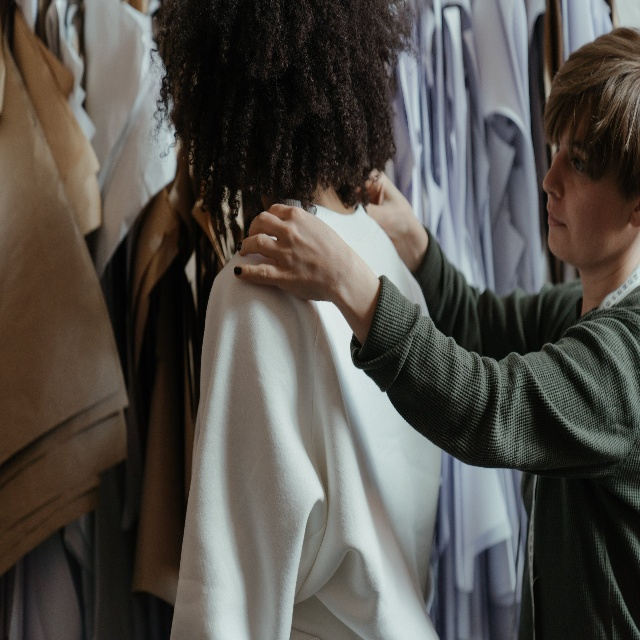Sin_guantes: (233, 203, 349, 303), (362, 168, 413, 247)
